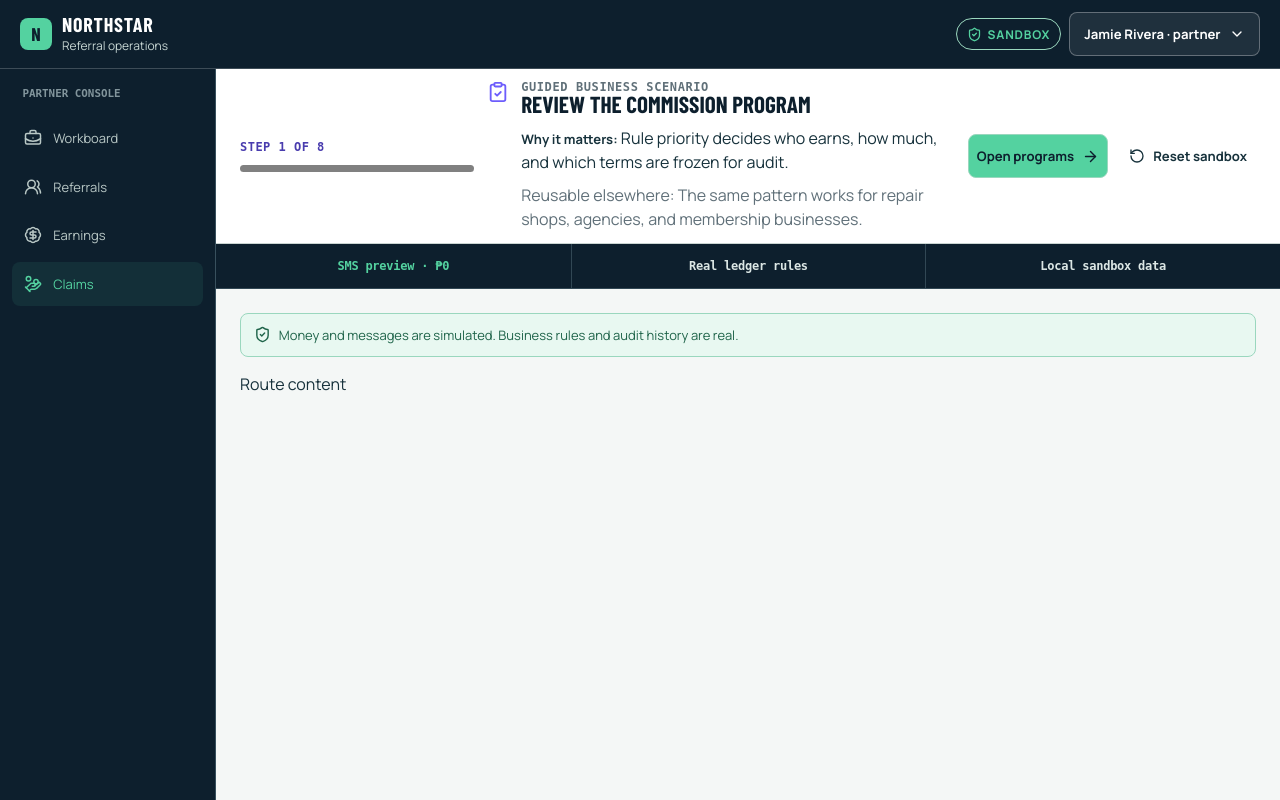
Scenario: SandboxWorkspaceProvider guided composition › routes to the authoritative owner workboard after recovering a committed partner reset
The image size is (1280, 800).
Expected: the text "Route content" is shown, top-left (240, 373), bottom-right (346, 395)
Click the button "Reset sandbox" at (1188, 156), box top-left (1120, 134), bottom-right (1256, 178)
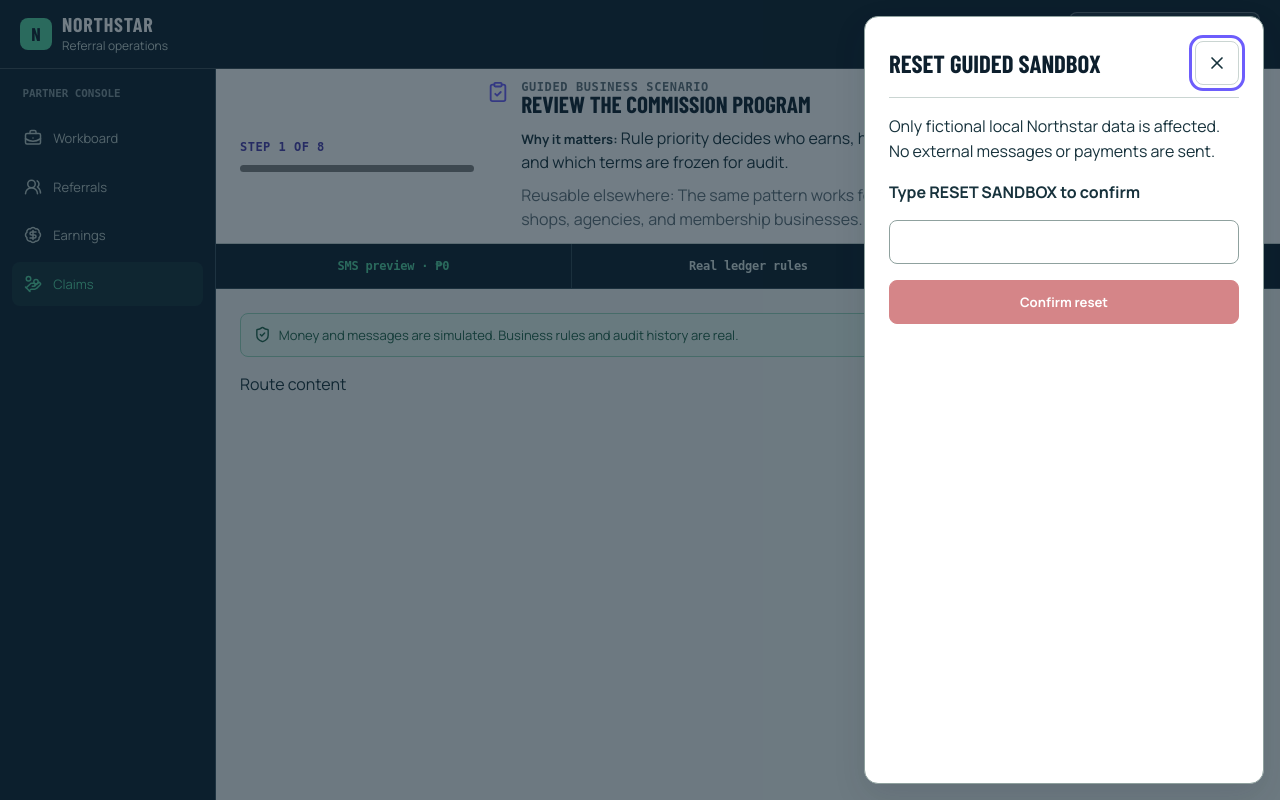
Type "RESET SANDBOX" into the field labelled "Type RESET SANDBOX to confirm" at (1064, 242), box top-left (889, 220), bottom-right (1239, 264)
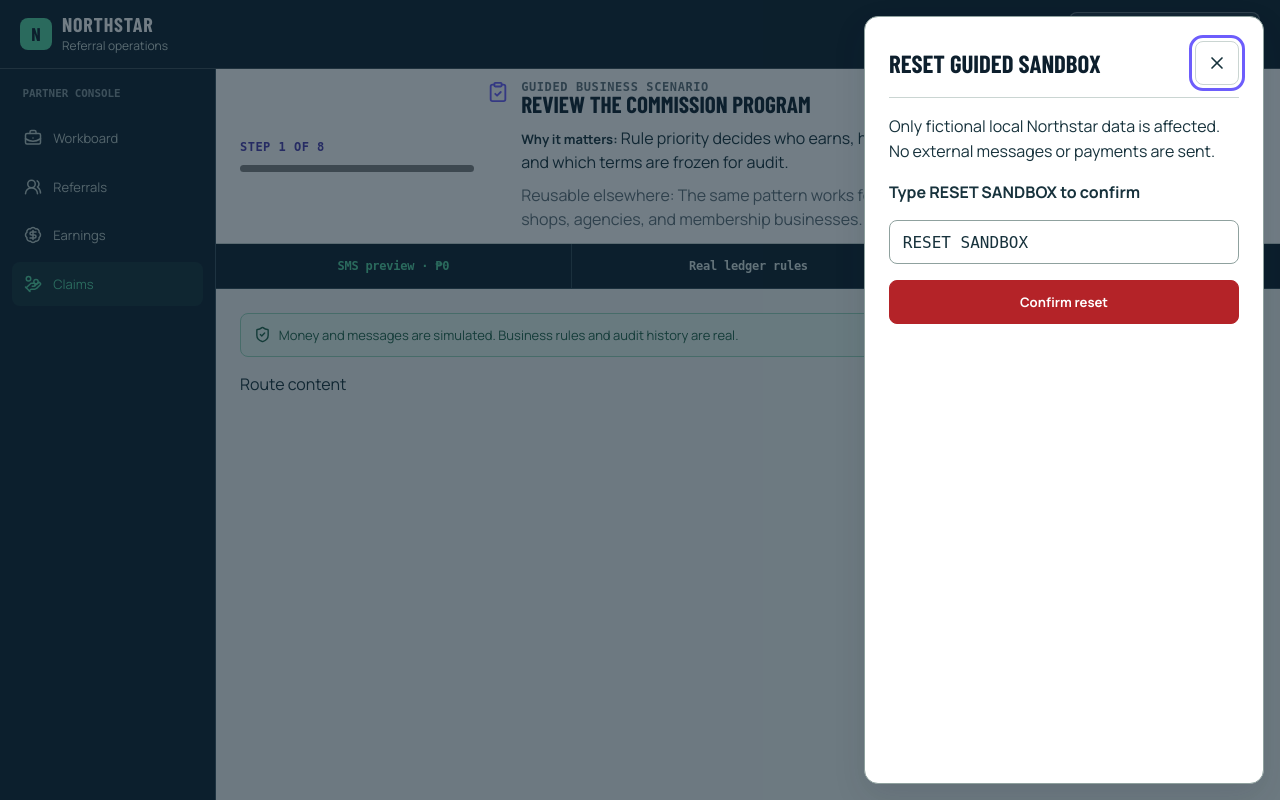
Click the button "Confirm reset" at (1064, 302), box top-left (889, 280), bottom-right (1239, 324)
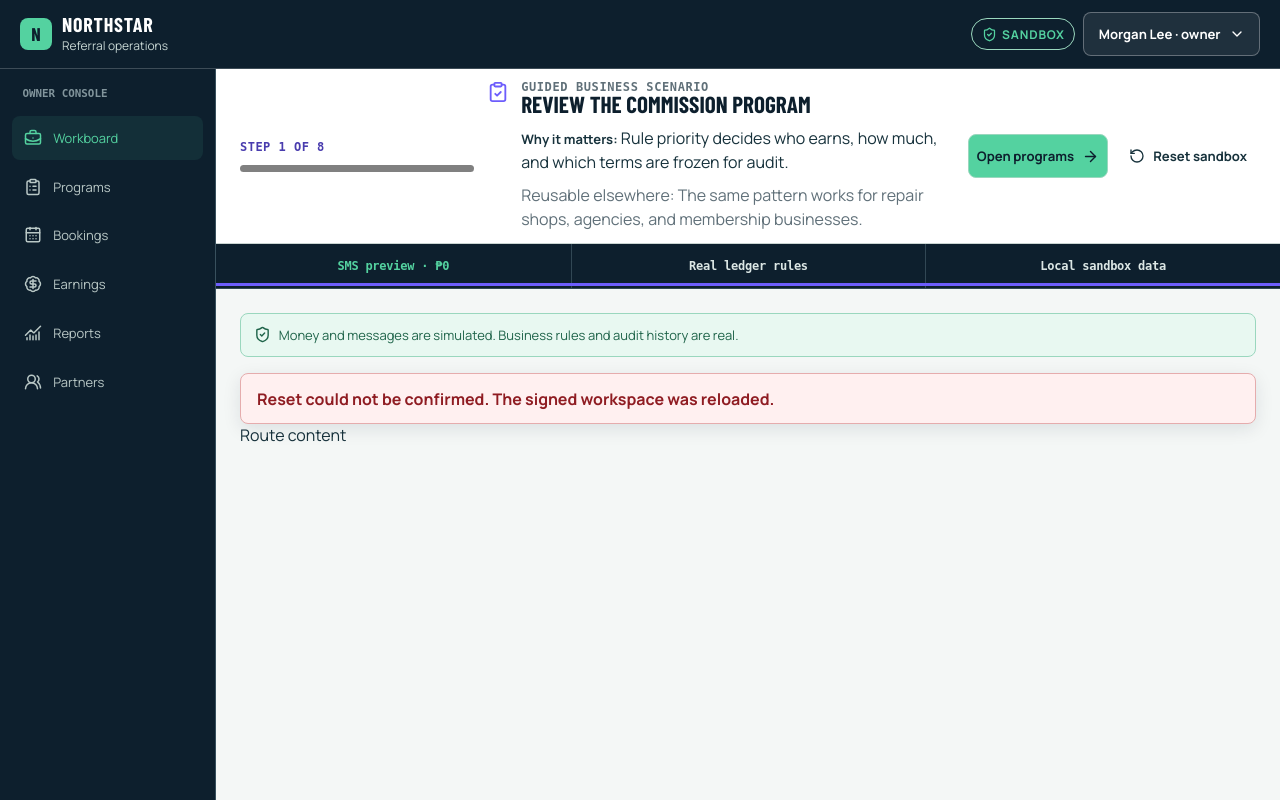
Result: the message shows "signed workspace was reloaded" at top-left (257, 388), bottom-right (774, 410)
Result: the button "Morgan Lee · owner" is shown at top-left (1083, 12), bottom-right (1260, 56)
